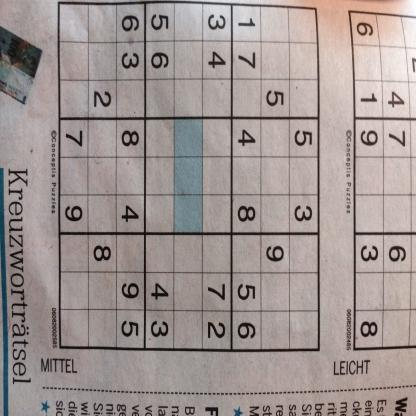sudoku: (54, 0, 324, 357)
